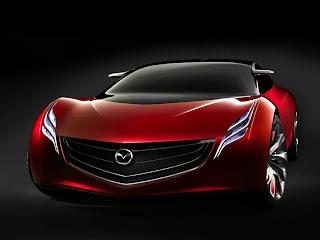small: (26, 55, 301, 206)
